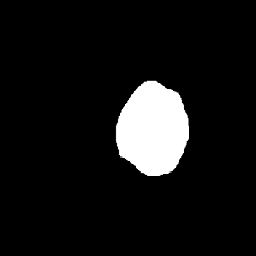mass: (120, 79, 189, 181)
